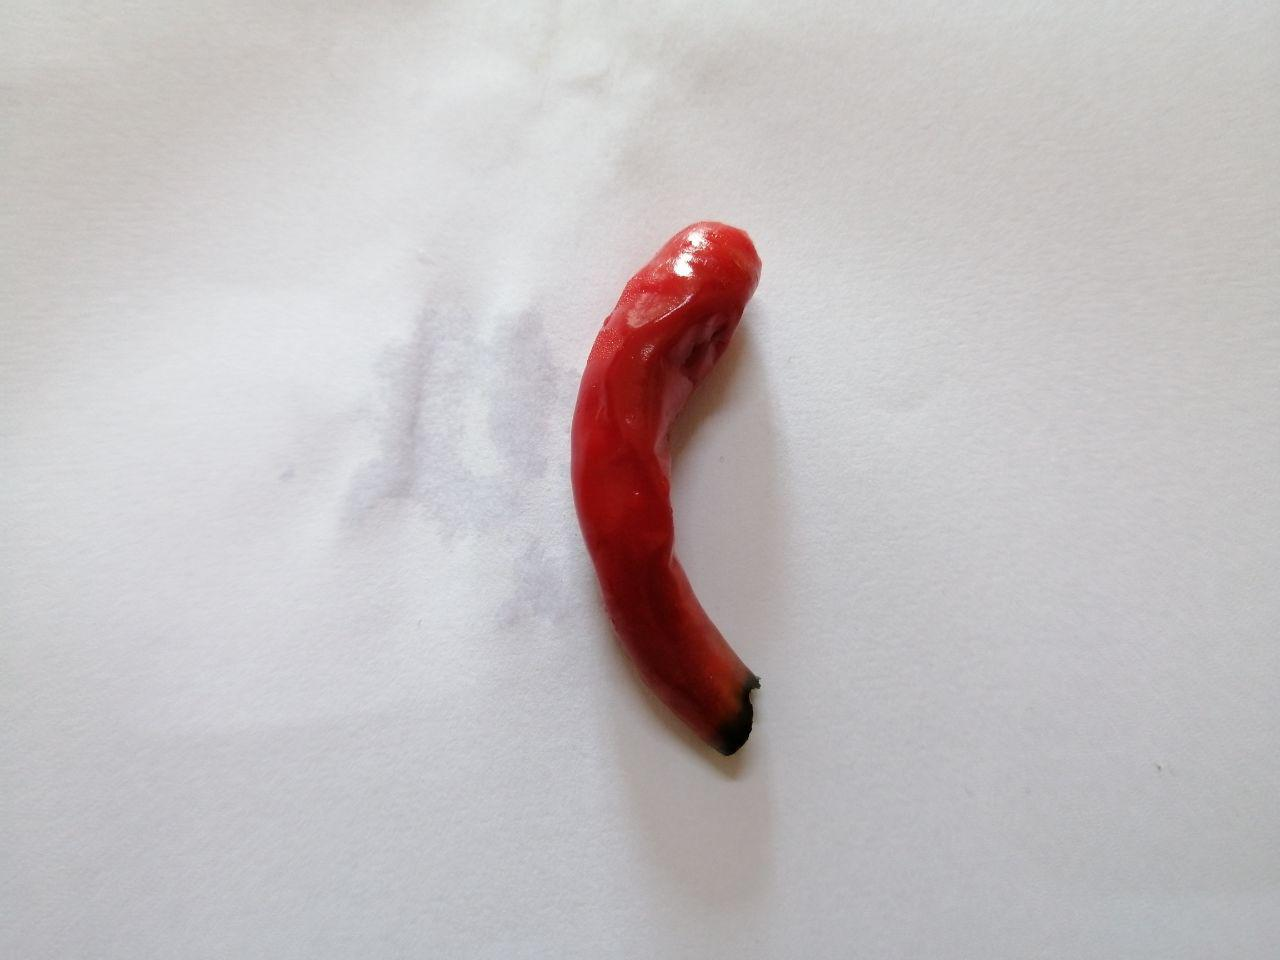lada merah: (571, 193, 797, 781)
